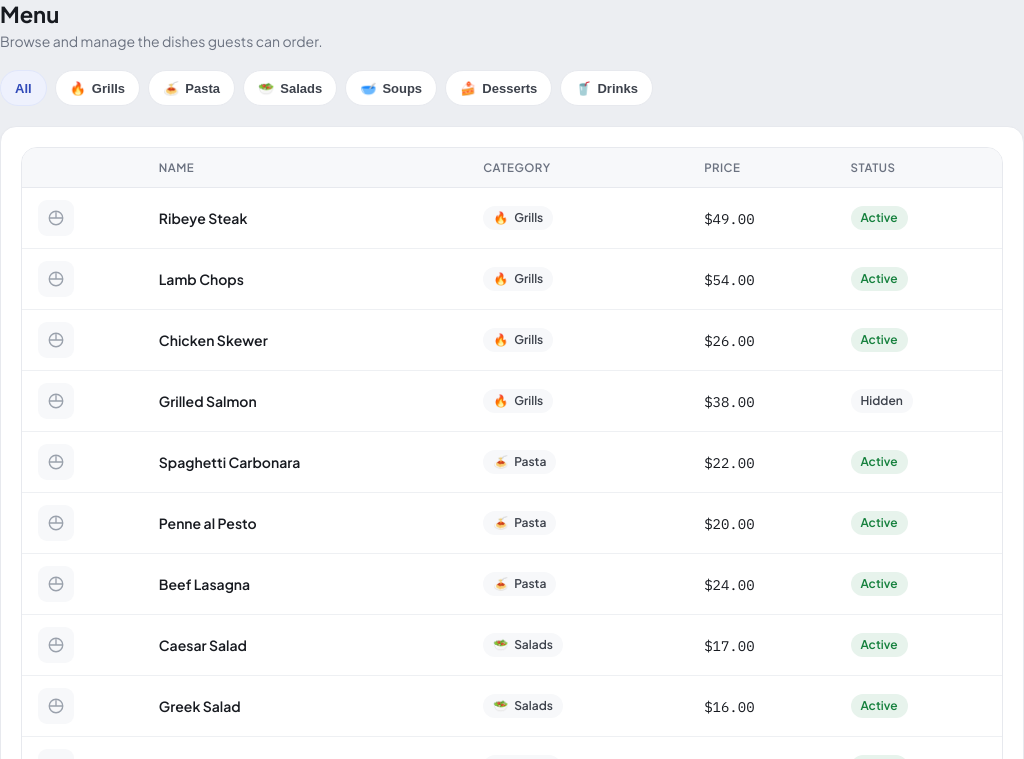
Test: MenuPage › filters foods when a category pill is selected
Expected: the text "Ribeye Steak" is shown, [159, 209, 247, 227]
Click the button "🥤 Drinks": (607, 88) [560, 70, 653, 106]
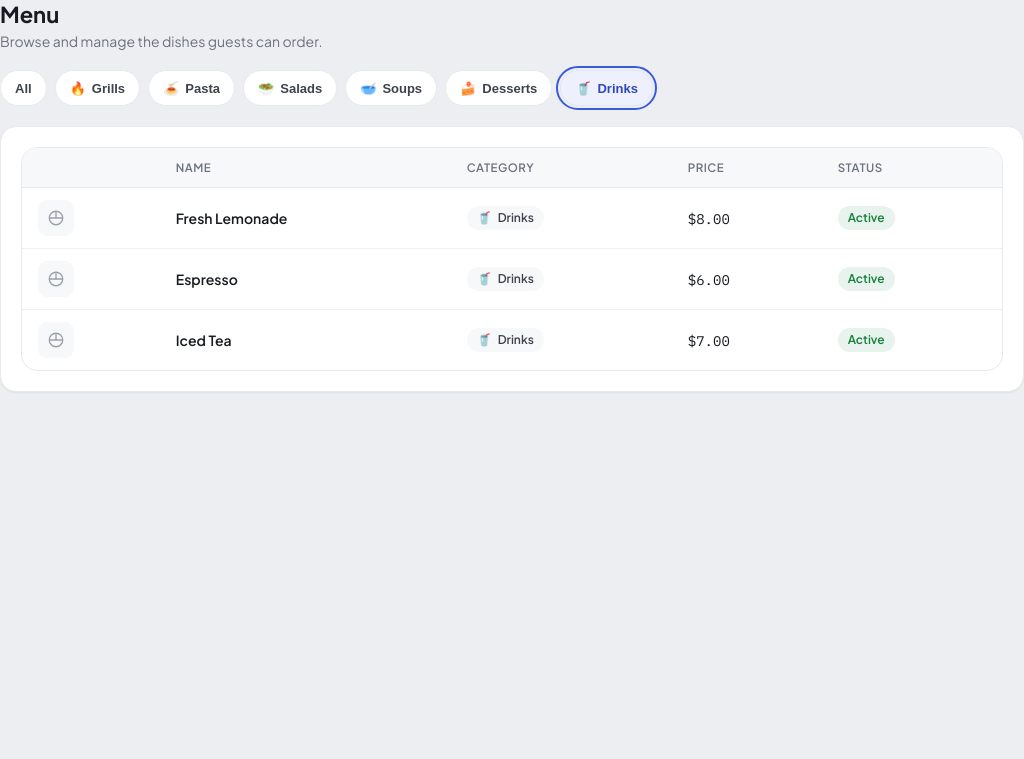
Expected: the text "Espresso" is shown, [176, 270, 238, 288]
Expected: the text "Ribeye Steak" is gone
